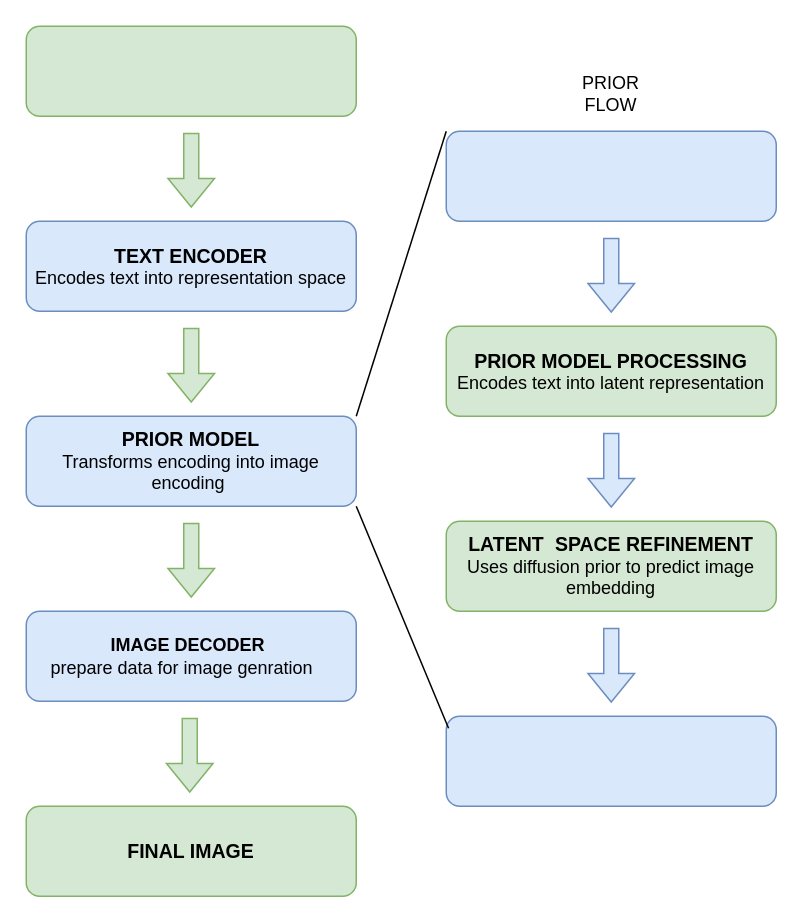
The diagram is 803 pixels wide and 923 high, and some of its shapes have lost their labels. Each missing label, with the box of its shape:
OUTPUT IMAGE EMBEDDING Aligns predicted embedding with CLIP image space: (445, 715, 776, 806)
TEXT ENCODING INPUT: (445, 130, 776, 221)
TEXT PROMPT INPUT: (25, 25, 356, 116)
